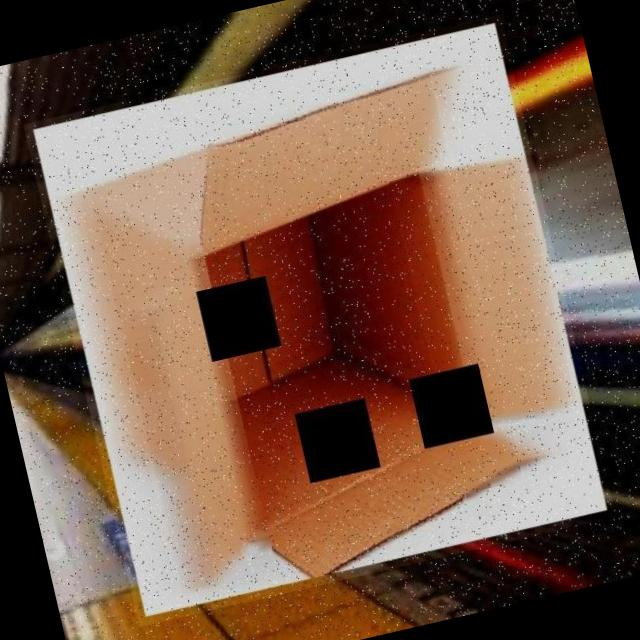box: (22, 14, 616, 626)
